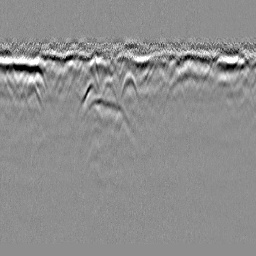cavity: (120, 69, 139, 102)
